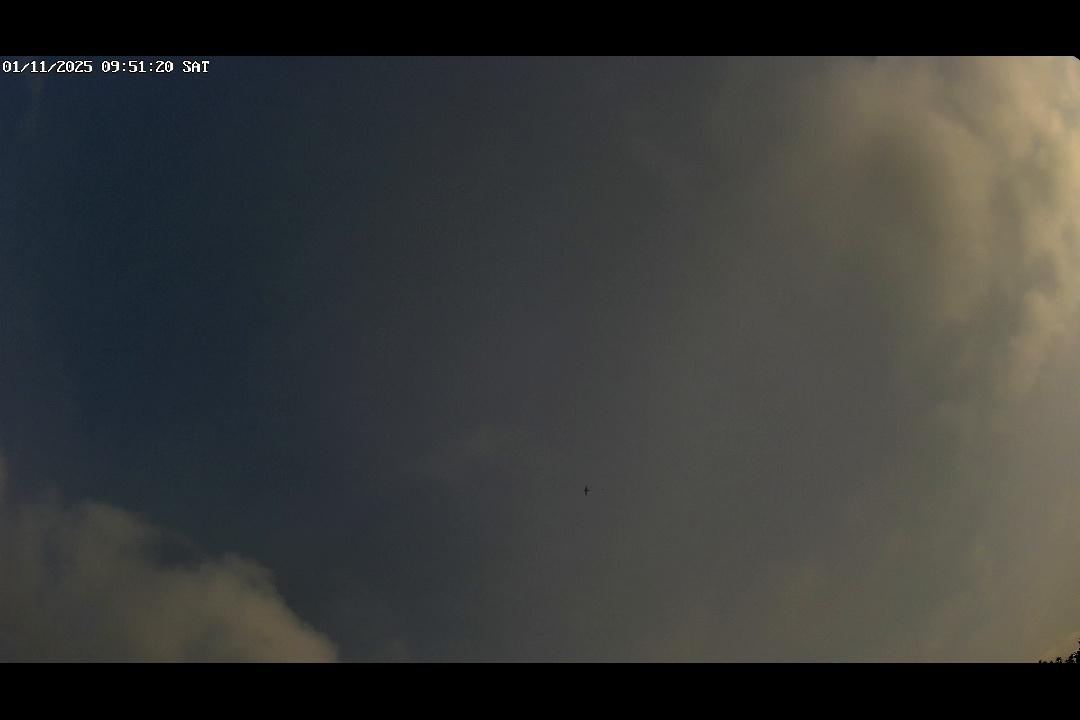WildLife: (581, 484, 592, 495)
